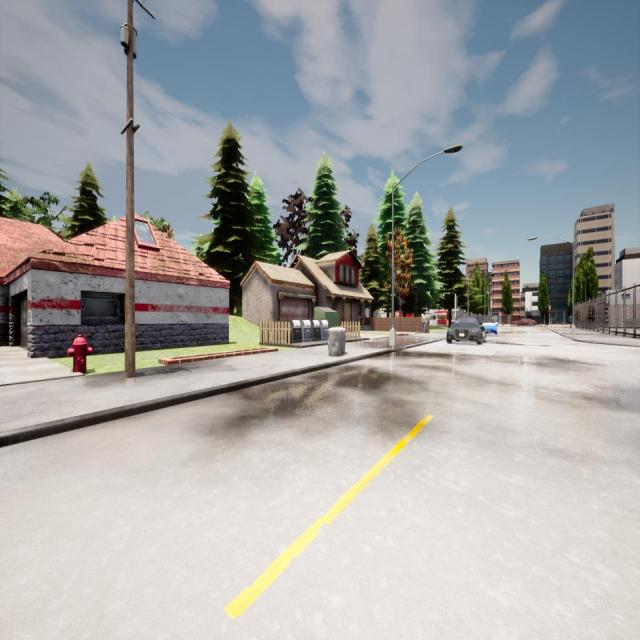Pedestrian: (422, 310, 428, 334), (569, 314, 573, 328)
Vehicle: (446, 315, 486, 344), (482, 318, 498, 334), (512, 318, 537, 326)
traffic_light: (455, 297, 458, 309), (548, 307, 551, 314)
